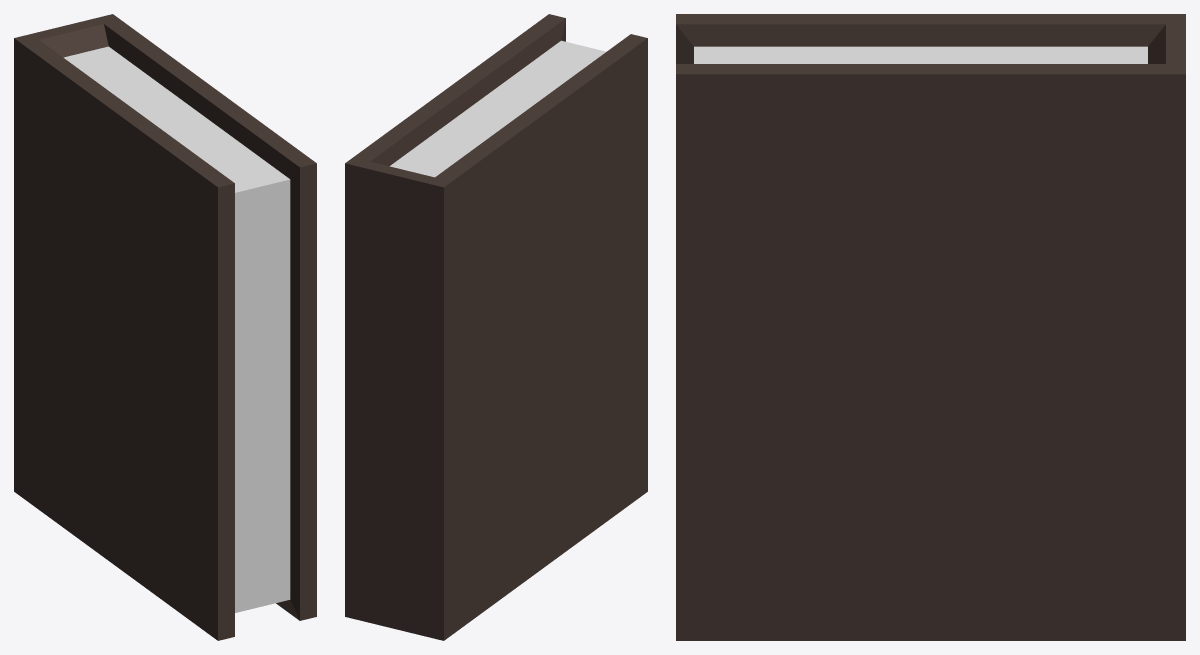
File: Book_Closed.glb
3 views of the same model, side by side, from view 1: azimuth 30°, elevation 25°; view 2: azimuth 150°, elevation 25°; view 3: azimuth 270°, elevation 25° (orthographic). The views are drawn at different scales.
Parts seen in each view (by area): view 1: Book_Closed; view 2: Book_Closed; view 3: Book_Closed.
Part boxes in pixels (x1,y1,x2,y2): Book_Closed: (14, 14, 316, 640); Book_Closed: (345, 14, 647, 640); Book_Closed: (676, 14, 1185, 640).
Bounding box in the file's own units: 0.0665 × 0.2918 × 0.2379.
